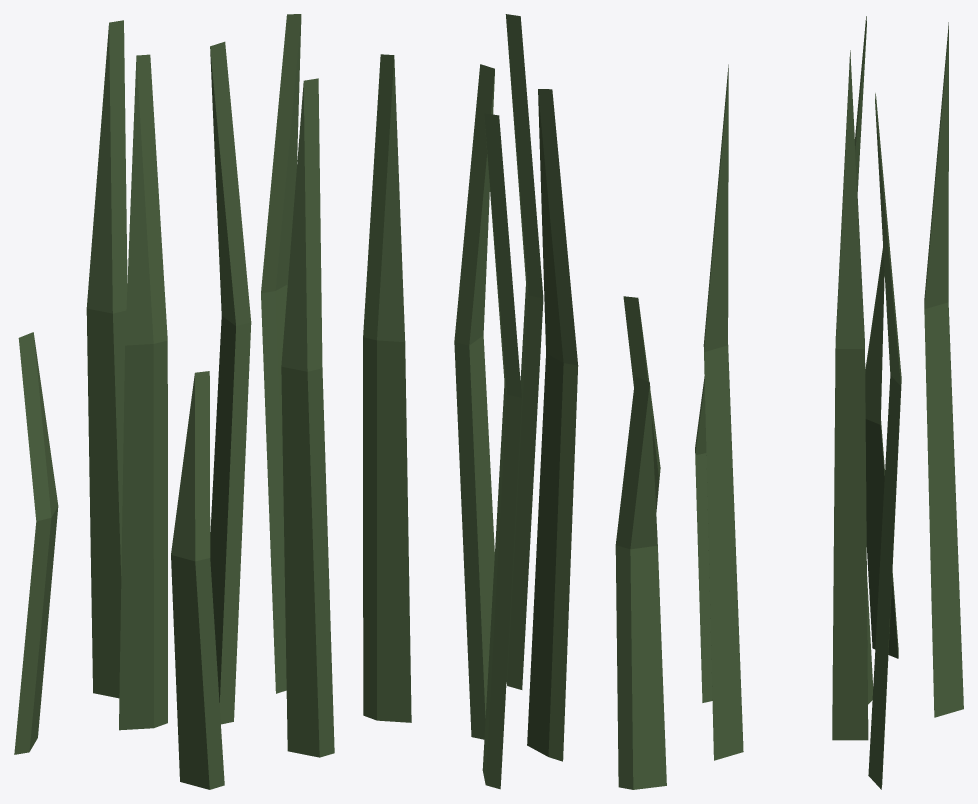
Rendered from Grass_3.glb.
3 views of the same model, side by side, from view 1: azimuth 30°, elevation 25°; view 2: azimuth 150°, elevation 25°; view 3: azimuth 270°, elevation 25° (orthographic). The views are drawn at different scales.
Visible parts, largest first — view 1: Grass_3; view 2: Grass_3; view 3: Grass_3.
Boxes of the visible parts, x1=… form: Grass_3: x1=14, y1=14, x2=334, y2=789; Grass_3: x1=363, y1=14, x2=666, y2=789; Grass_3: x1=695, y1=16, x2=963, y2=789.
Bounding box in the file's own units: 0.3738 × 0.7952 × 0.2824.
